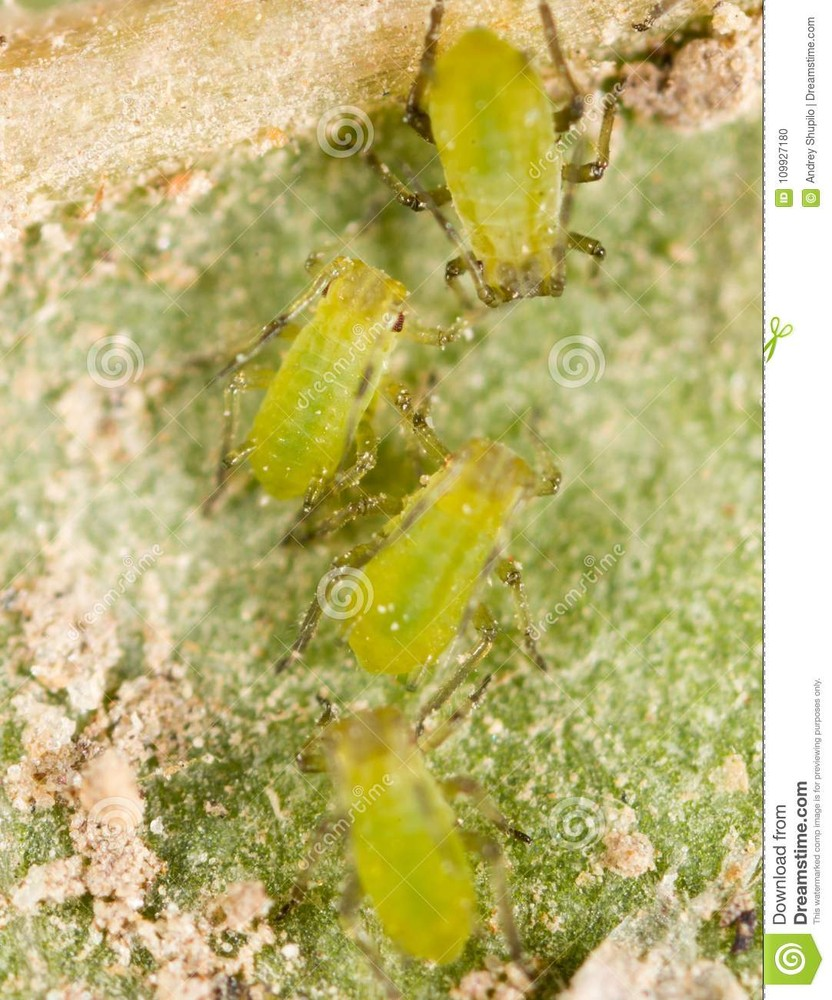Pulgon: (378, 9, 646, 319), (294, 421, 573, 709), (269, 704, 561, 963), (193, 240, 430, 530)
